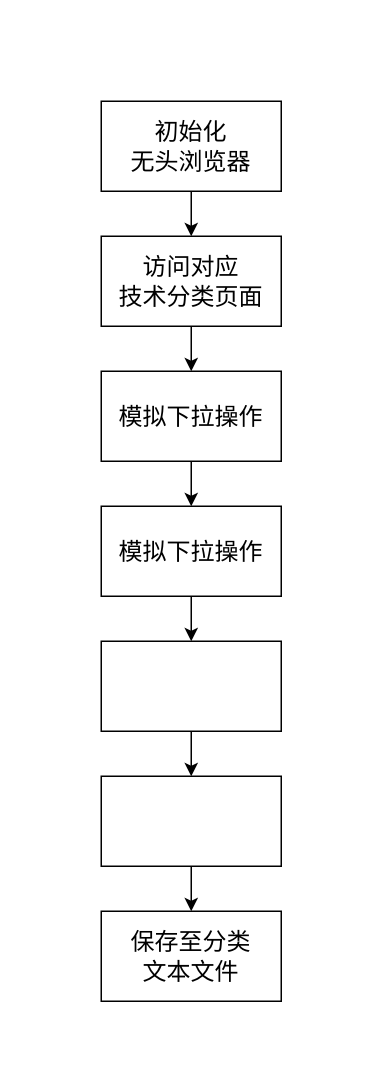
This 381x1086 diagram has some shape labels left out. The shapes that lost their labels are listed below. From the top down, each one's box as (x1, y1, x2, y2) in pixels, then its label:
(100, 640, 281, 731): 获取页面源码
(100, 775, 281, 866): 提取标题 和文章链接
